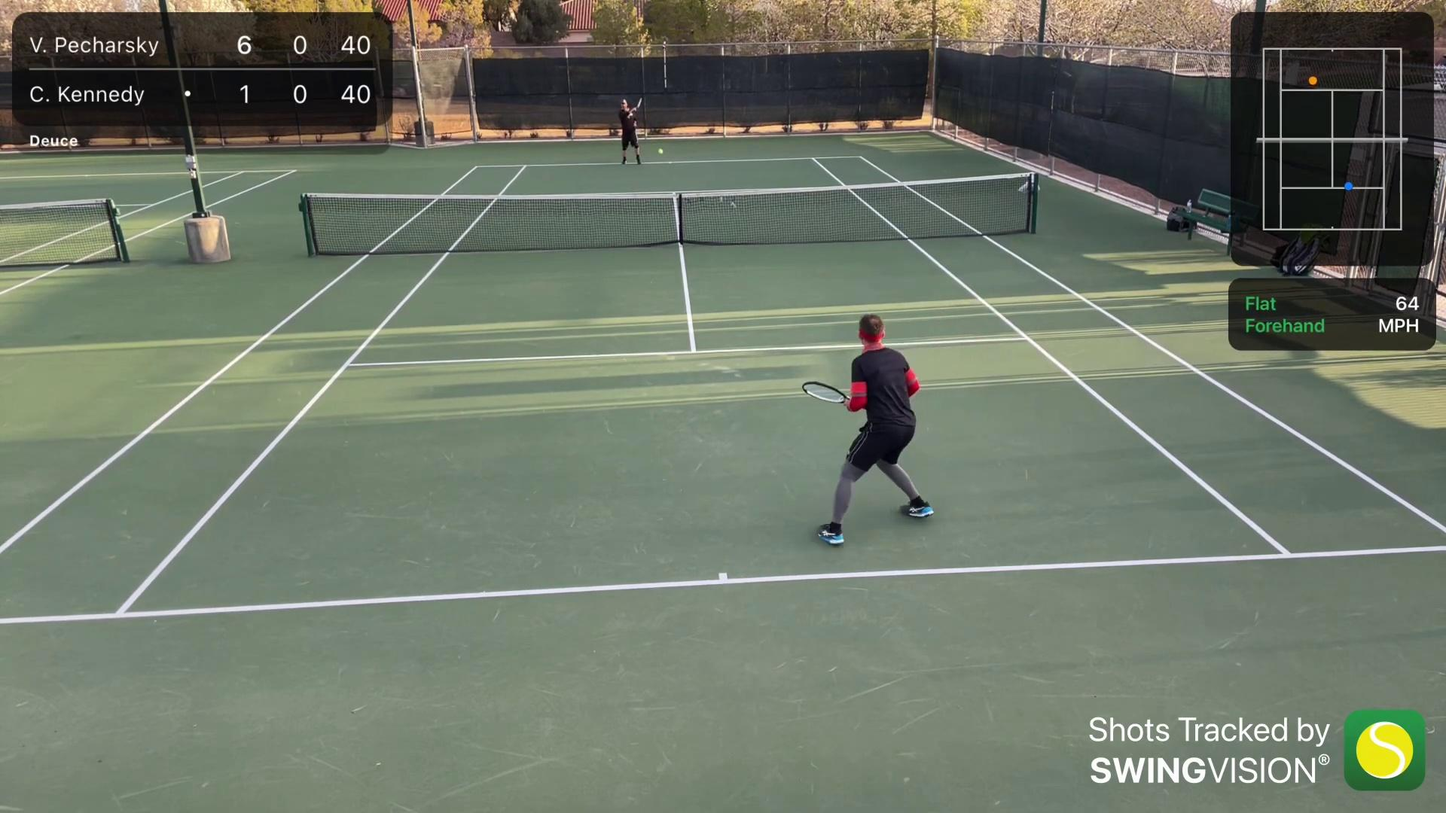ball: (658, 148, 665, 155)
